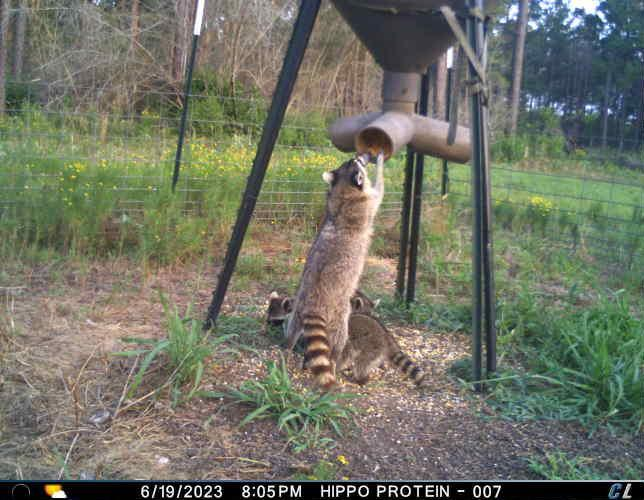Raccoon: (267, 152, 391, 394), (316, 313, 429, 392)
